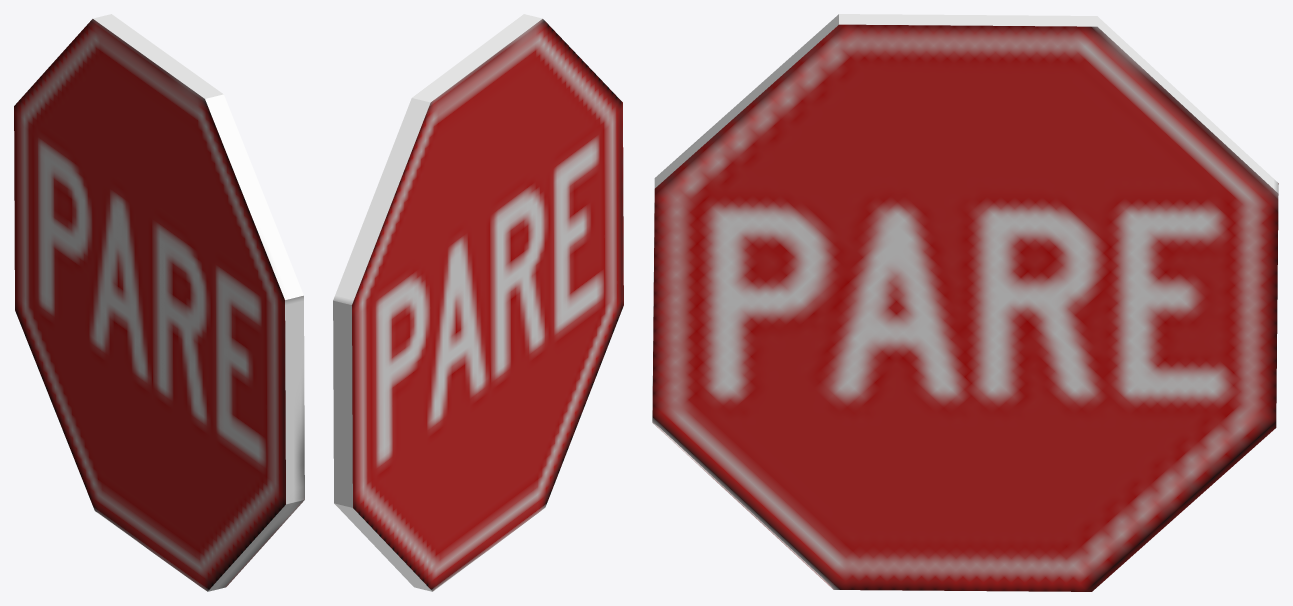
The model's file is StopSignModel.fbx.
The picture shows the model from 3 angles, left to right: view 1: azimuth 30°, elevation 25°; view 2: azimuth 150°, elevation 25°; view 3: azimuth 270°, elevation 25°; orthographic projection. The views are drawn at different scales.
Parts seen in each view (by area): view 1: Stop; view 2: Stop; view 3: Stop.
Boxes of the visible parts, x1,y1,x2,y2 form: Stop: (14,14,304,591); Stop: (333,14,623,591); Stop: (652,14,1278,591).
Size of the model in its own units: 7.44 by 185 by 185.
1 material, 1 textured.
